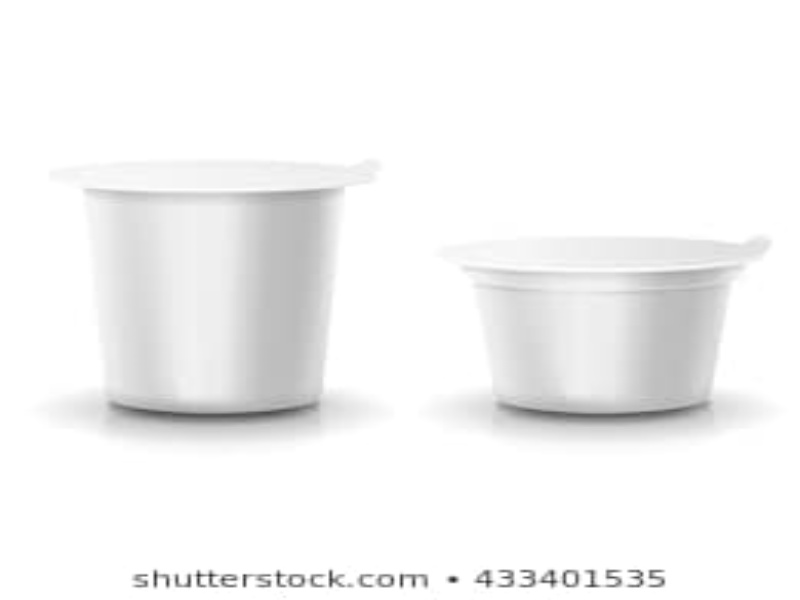yogurt-cup: (44, 153, 388, 423), (437, 232, 775, 420)
